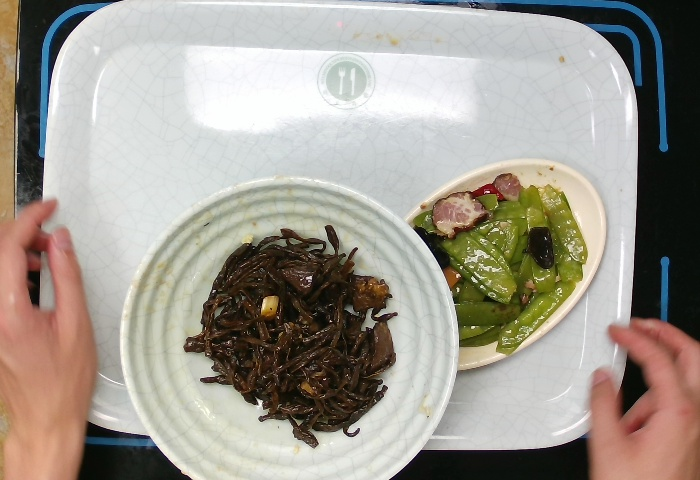JYsf-Da_Tang_Wan: (114, 170, 463, 480)
JYsf-Tuo_Yuan_Wan: (390, 154, 611, 376)
